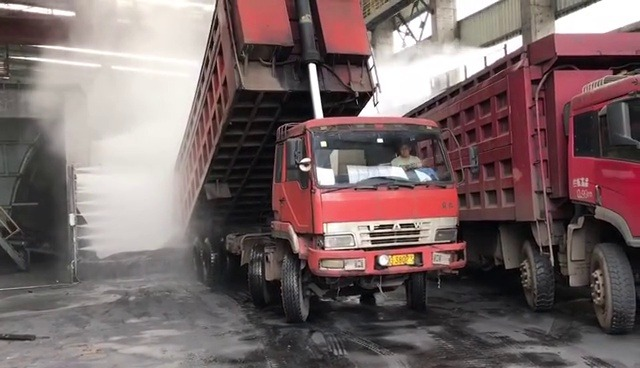dust: (17, 0, 237, 282), (344, 26, 519, 117)
truck: (175, 0, 466, 318), (460, 29, 639, 317)
